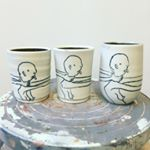cups: (97, 40, 146, 110), (5, 44, 51, 106), (52, 44, 95, 106)
